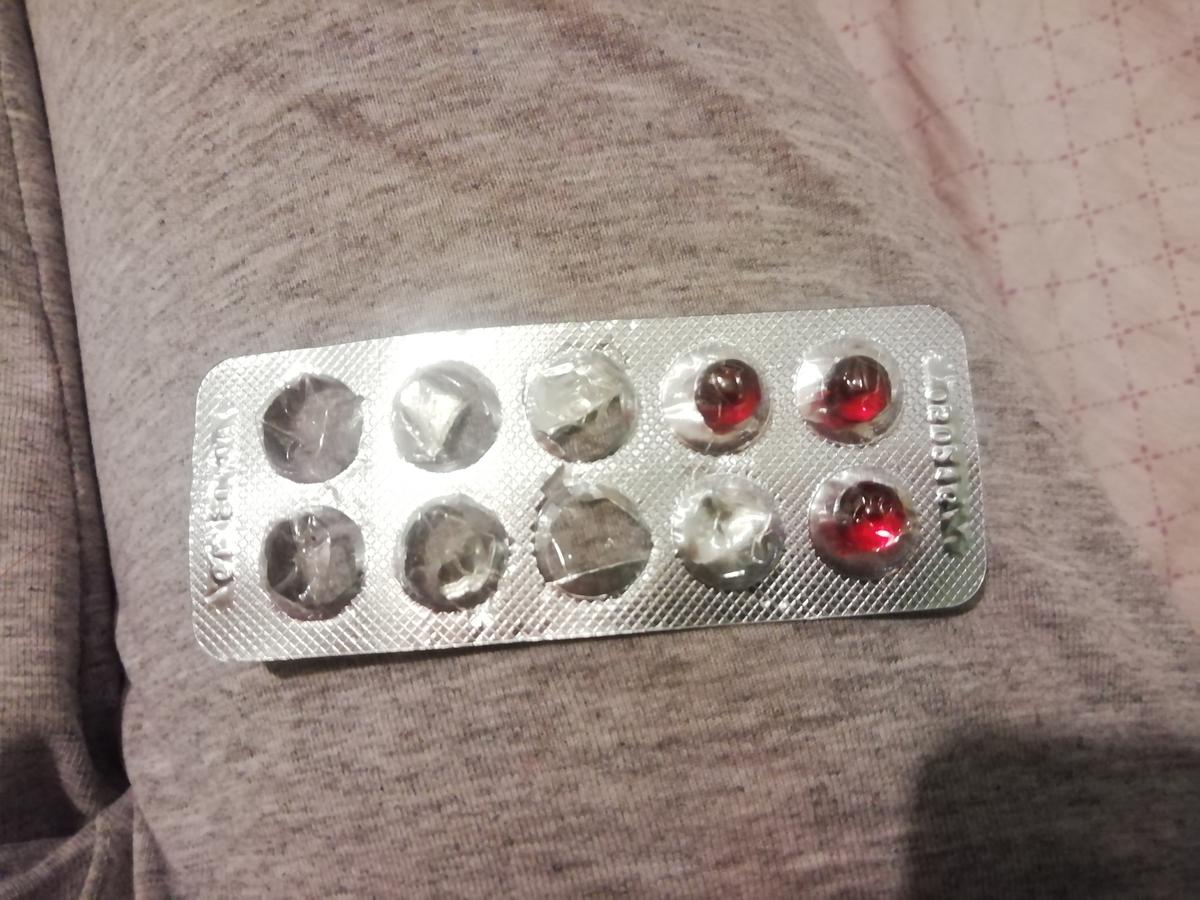tablet: (791, 344, 905, 457), (805, 462, 919, 575), (672, 348, 775, 452)
